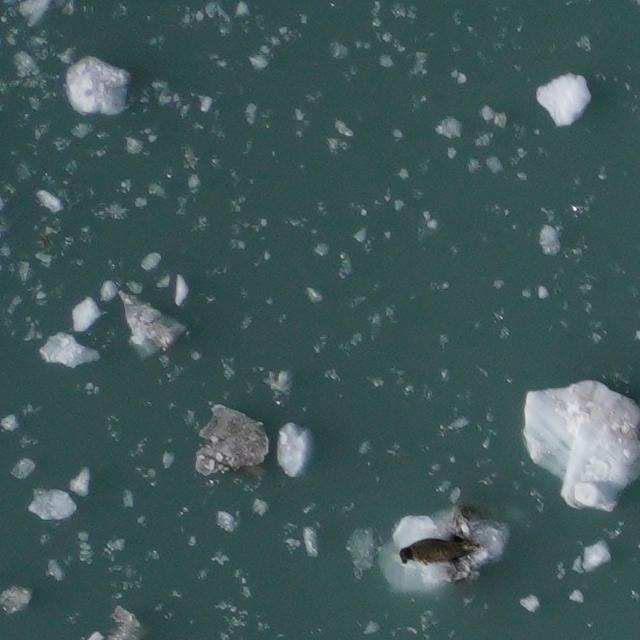seal: (395, 532, 483, 574)
